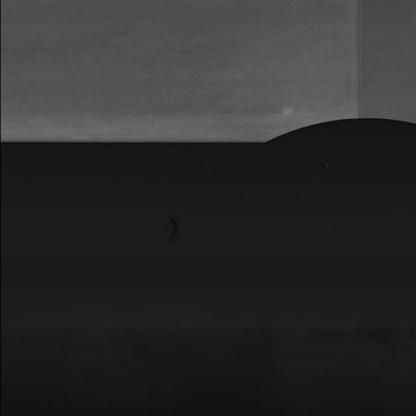crescent_gap: (252, 112, 416, 151)
welding_line: (348, 0, 370, 124)
